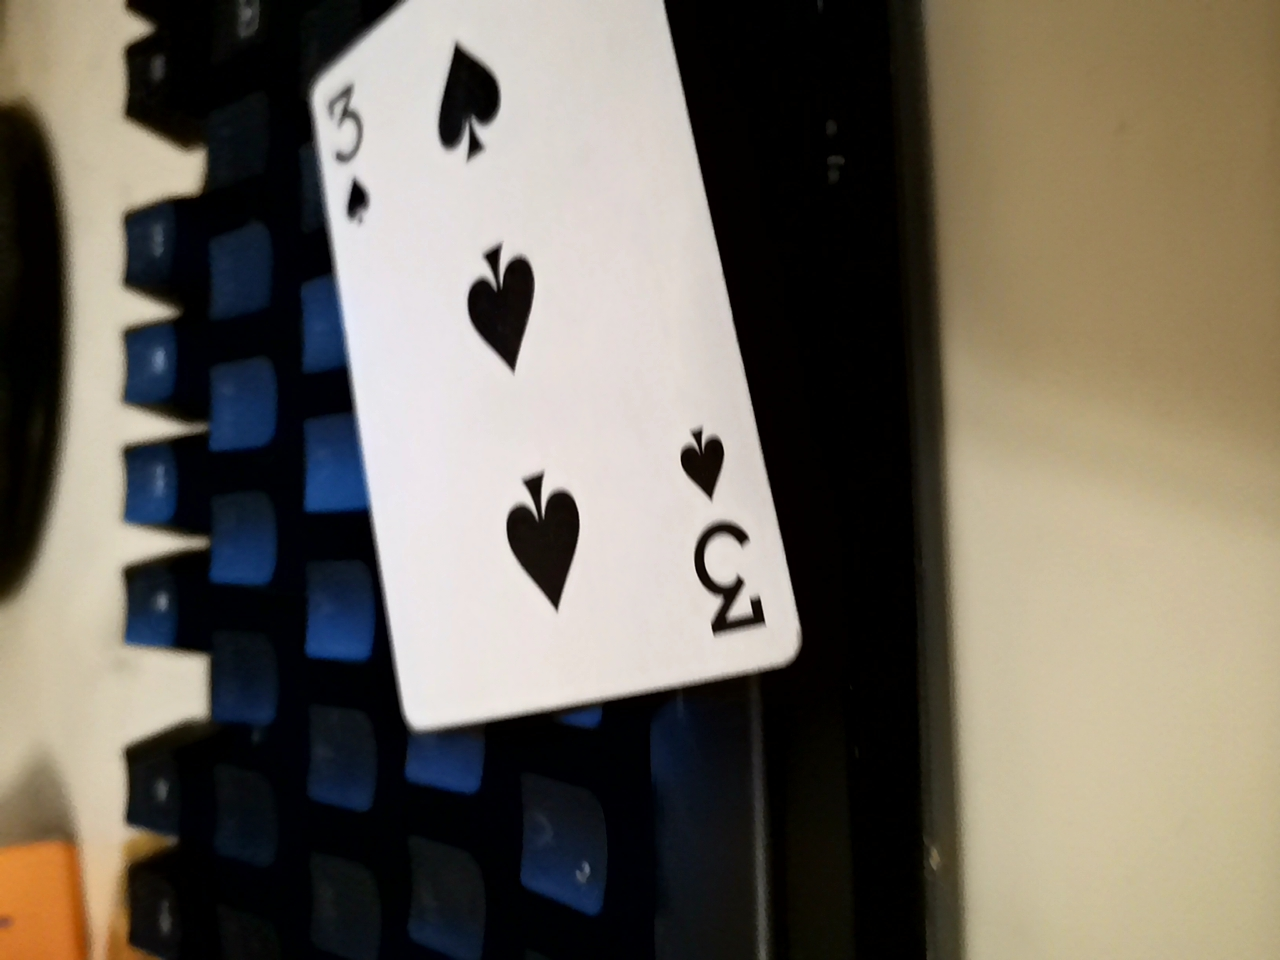ht 3: (313, 22, 811, 828)
